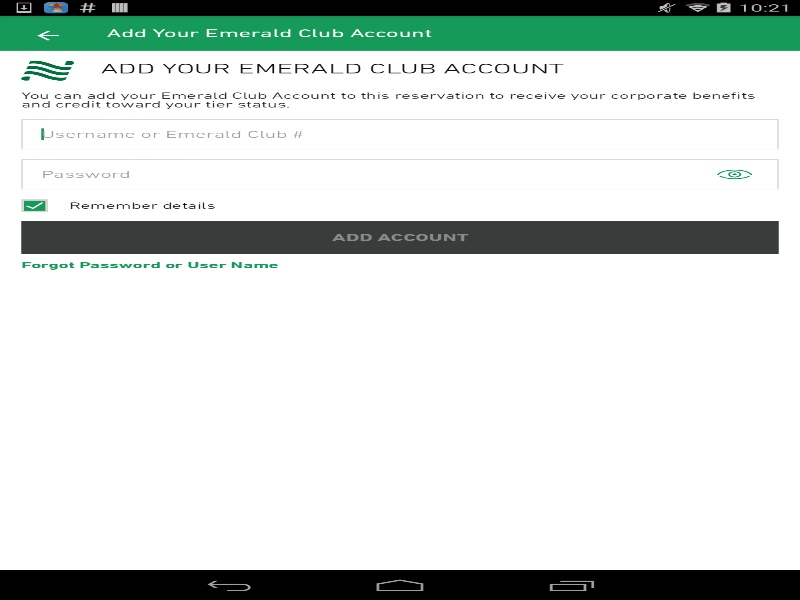Button: (10, 18, 85, 53)
Input: (21, 119, 778, 149), (21, 159, 704, 189)
